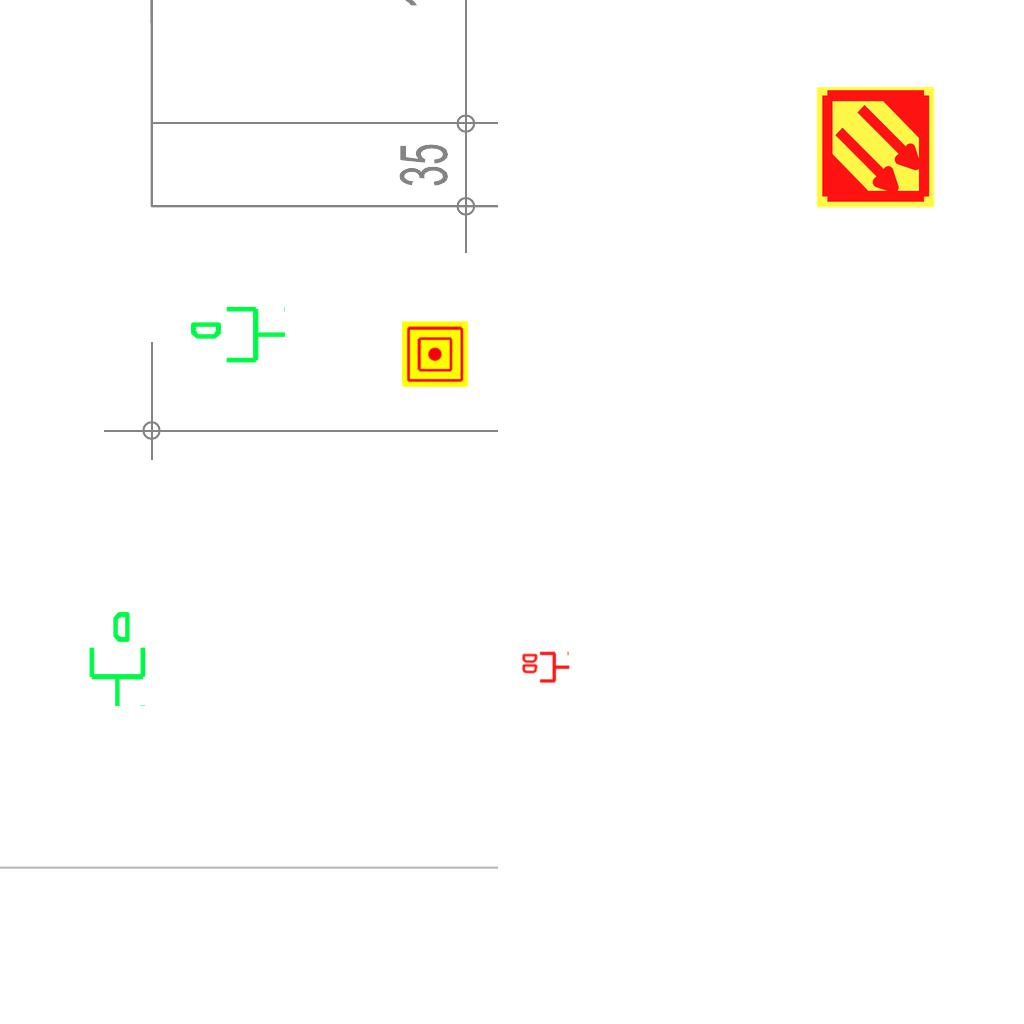ASR_Ansaugrauchmelder: (813, 85, 938, 210)
Datenanschluss_einfach: (188, 302, 288, 371), (81, 609, 150, 709)
Datenanschluss_zweifach: (520, 651, 571, 685)
NAM-Nichtautomatischer_Melder: (402, 321, 468, 387)
